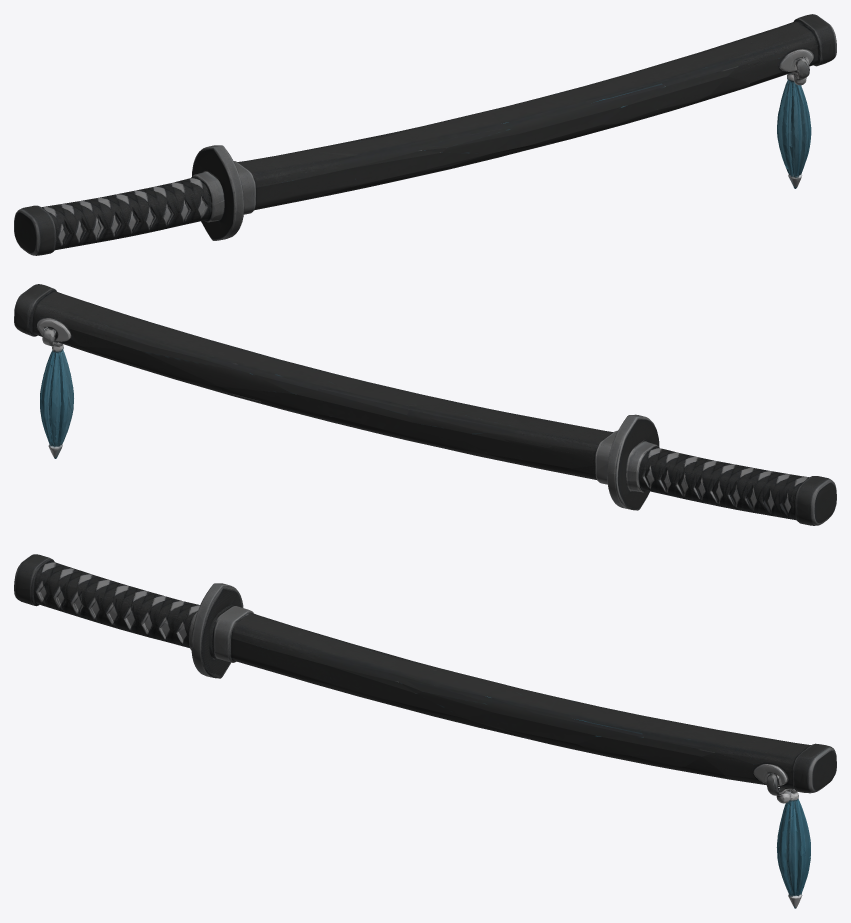
File: scabbard_full.glb
3 renders of one model, top to bottom at view 1: azimuth 30°, elevation 25°; view 2: azimuth 150°, elevation 25°; view 3: azimuth 330°, elevation 25°, orthographic.
Visible parts, largest first — view 1: output_unwrapped; view 2: output_unwrapped; view 3: output_unwrapped.
Boxes of the visible parts, left/top/right/bottom form: output_unwrapped: left=14, top=14, right=836, bottom=255; output_unwrapped: left=14, top=284, right=836, bottom=525; output_unwrapped: left=14, top=554, right=836, bottom=908.
Bounding box in the file's own units: 1.9 × 0.4173 × 0.1774.
1 material, 1 textured.
